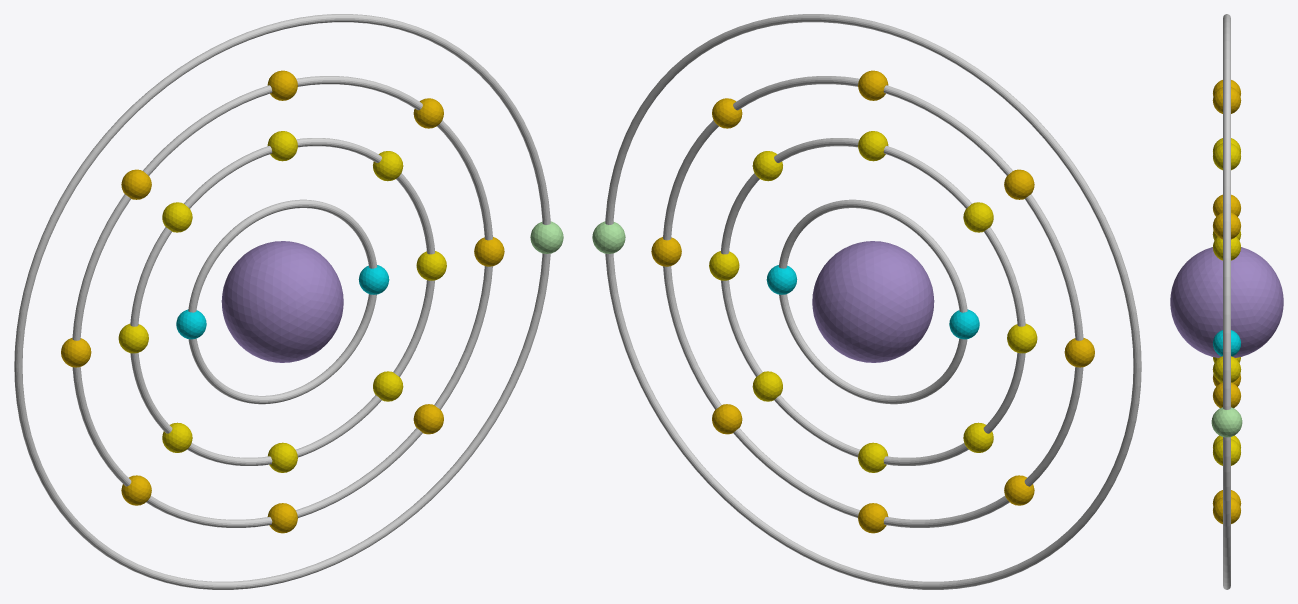
3 renders of one model, left to right at view 1: azimuth 30°, elevation 25°; view 2: azimuth 150°, elevation 25°; view 3: azimuth 270°, elevation 25°, orthographic. The views are drawn at different scales.
Visible parts, largest first — view 1: Camada_4, Nucleo_K, Camada_3, Camada_2, Camada_1, e4_1, e2_4, e3_4, e3_8, e2_8, e2_5, e1_2 (+11 smaller); view 2: Camada_4, Nucleo_K, Camada_3, Camada_2, Camada_1, e4_1, e2_4, e3_4, e3_8, e2_8, e2_5, e1_2 (+11 smaller); view 3: Nucleo_K, Camada_4, e4_1, e2_1, e2_3, e3_3, e1_1, e2_8, e3_2, e3_8, e3_1, e2_2 (+1 smaller).
Part boxes in pixels (left/top/right/bottom): Camada_4: left=14, top=14, right=550, bottom=589; Nucleo_K: left=221, top=241, right=343, bottom=362; Camada_3: left=72, top=76, right=492, bottom=527; Camada_2: left=130, top=138, right=435, bottom=465; Camada_1: left=188, top=199, right=377, bottom=404; e4_1: left=530, top=221, right=563, bottom=253; e2_4: left=162, top=202, right=192, bottom=232; e3_4: left=121, top=169, right=151, bottom=199; e3_8: left=413, top=404, right=443, bottom=434; e2_8: left=373, top=371, right=403, bottom=401; e2_5: left=118, top=323, right=148, bottom=353; e1_2: left=176, top=309, right=206, bottom=339; Camada_4: left=605, top=14, right=1141, bottom=589; Nucleo_K: left=812, top=241, right=934, bottom=362; Camada_3: left=663, top=76, right=1083, bottom=527; Camada_2: left=720, top=138, right=1025, bottom=465; Camada_1: left=778, top=199, right=967, bottom=404; e4_1: left=592, top=221, right=625, bottom=253; e2_4: left=963, top=202, right=993, bottom=232; e3_4: left=1004, top=169, right=1034, bottom=199; e3_8: left=712, top=404, right=742, bottom=434; e2_8: left=752, top=371, right=782, bottom=401; e2_5: left=1007, top=323, right=1037, bottom=353; e1_2: left=949, top=309, right=979, bottom=339; Nucleo_K: left=1170, top=247, right=1283, bottom=357; Camada_4: left=1223, top=14, right=1230, bottom=589; e4_1: left=1211, top=407, right=1242, bottom=437; e2_1: left=1212, top=356, right=1241, bottom=382; e2_3: left=1213, top=143, right=1240, bottom=170; e3_3: left=1212, top=87, right=1241, bottom=113; e1_1: left=1213, top=330, right=1240, bottom=356; e2_8: left=1213, top=439, right=1240, bottom=465; e3_2: left=1213, top=212, right=1240, bottom=239; e3_8: left=1213, top=497, right=1240, bottom=523; e3_1: left=1213, top=382, right=1240, bottom=408; e2_2: left=1213, top=237, right=1240, bottom=260.
Bounding box in the file's own units: 2.27 × 2.23 × 0.44.
